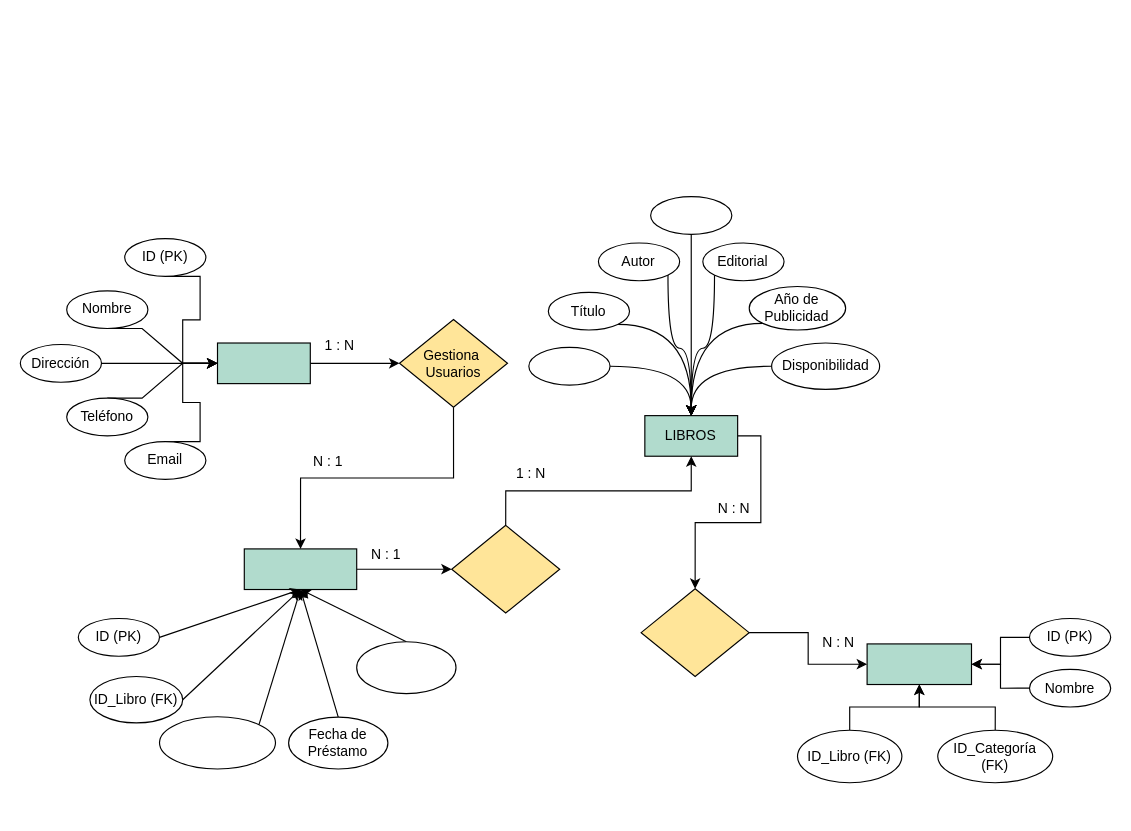
Some shapes in this 1131 by 831 pixel diagram are drawn without their labels. The centre of each missing label's shape, as x and y in pixels:
"CATEGORÍAS" goes at point (918, 664).
"Fecha de Devolución" goes at point (406, 667).
"Gestiona Libros" goes at point (694, 632).
"ID" goes at point (569, 365).
"ID_Usuario (FK)" goes at point (217, 742).
"ISBN" goes at point (690, 214).
"PRÉSTAMOS" goes at point (300, 569).
"Realiza Préstamos" goes at point (505, 568).
"USUARIOS" goes at point (263, 363).
